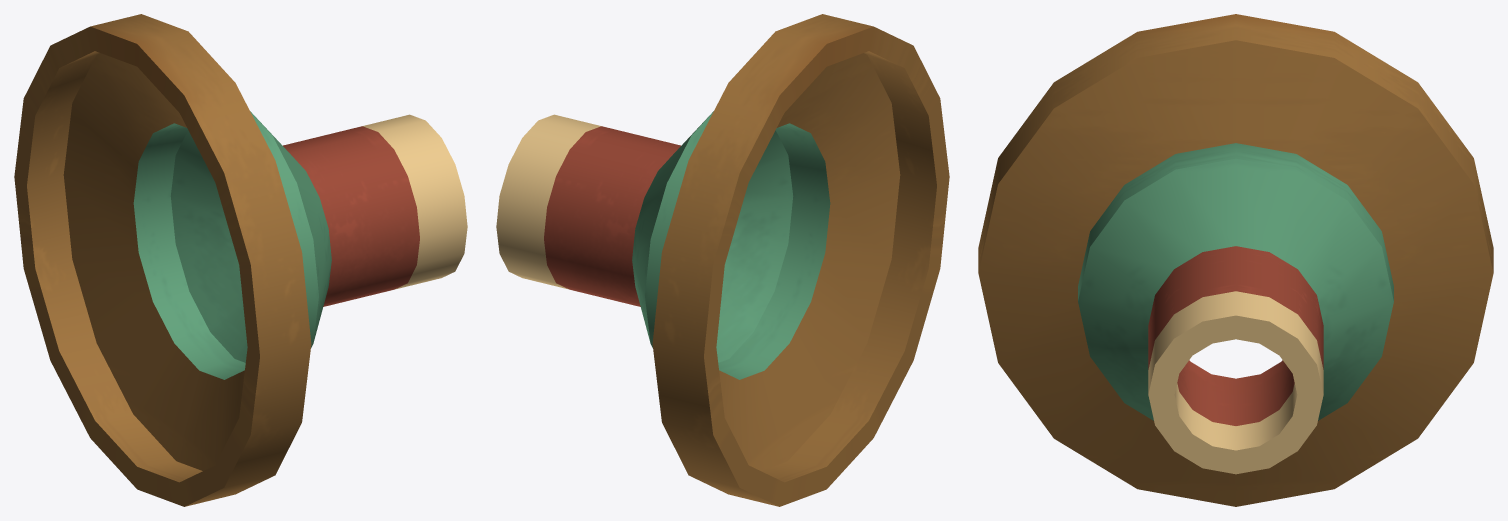
The model's file is MayanDartMouth.fbx.
The picture shows the model from 3 angles, left to right: view 1: azimuth 30°, elevation 25°; view 2: azimuth 150°, elevation 25°; view 3: azimuth 270°, elevation 25°; orthographic projection. The views are drawn at different scales.
Parts seen in each view (by area): view 1: Circle.004; view 2: Circle.004; view 3: Circle.004.
Boxes of the visible parts, x1=… form: Circle.004: x1=14, y1=14, x2=467, y2=506; Circle.004: x1=496, y1=14, x2=949, y2=506; Circle.004: x1=978, y1=14, x2=1493, y2=506.
Size of the model in its own units: 398 by 588 by 588.
Materials: 2 (1 with a texture image).
